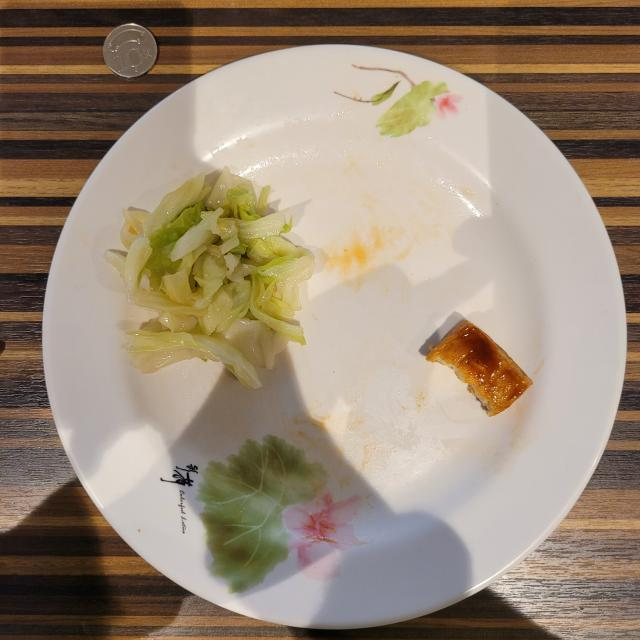cabbage: (105, 168, 315, 388)
coin: (104, 24, 158, 78)
creamy tofu: (426, 320, 532, 416)
